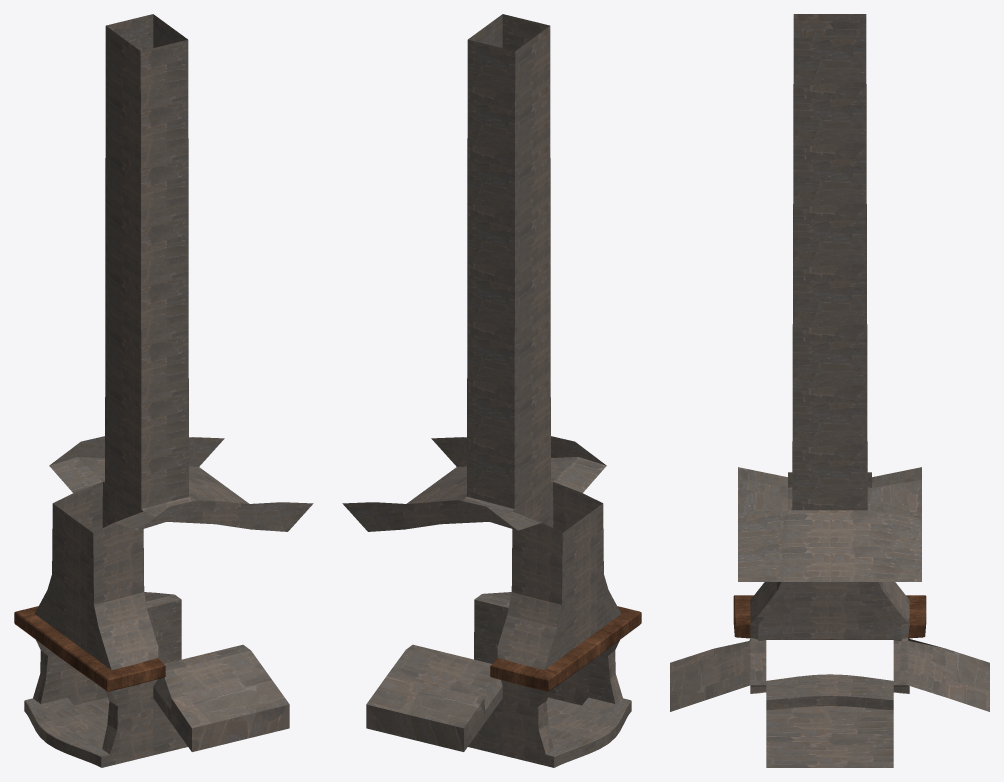
Rendered from Oven.fbx.
3 views of the same model, side by side, from view 1: azimuth 30°, elevation 25°; view 2: azimuth 150°, elevation 25°; view 3: azimuth 270°, elevation 25° (orthographic). The views are drawn at different scales.
Parts seen in each view (by area): view 1: Oven; view 2: Oven; view 3: Oven.
Part boxes in pixels (x1,y1,x2,y2): Oven: (14,14,313,767); Oven: (342,14,641,767); Oven: (670,14,989,767).
Bounding box in the file's own units: 628 × 1852 × 756.
1 material, 1 textured.
